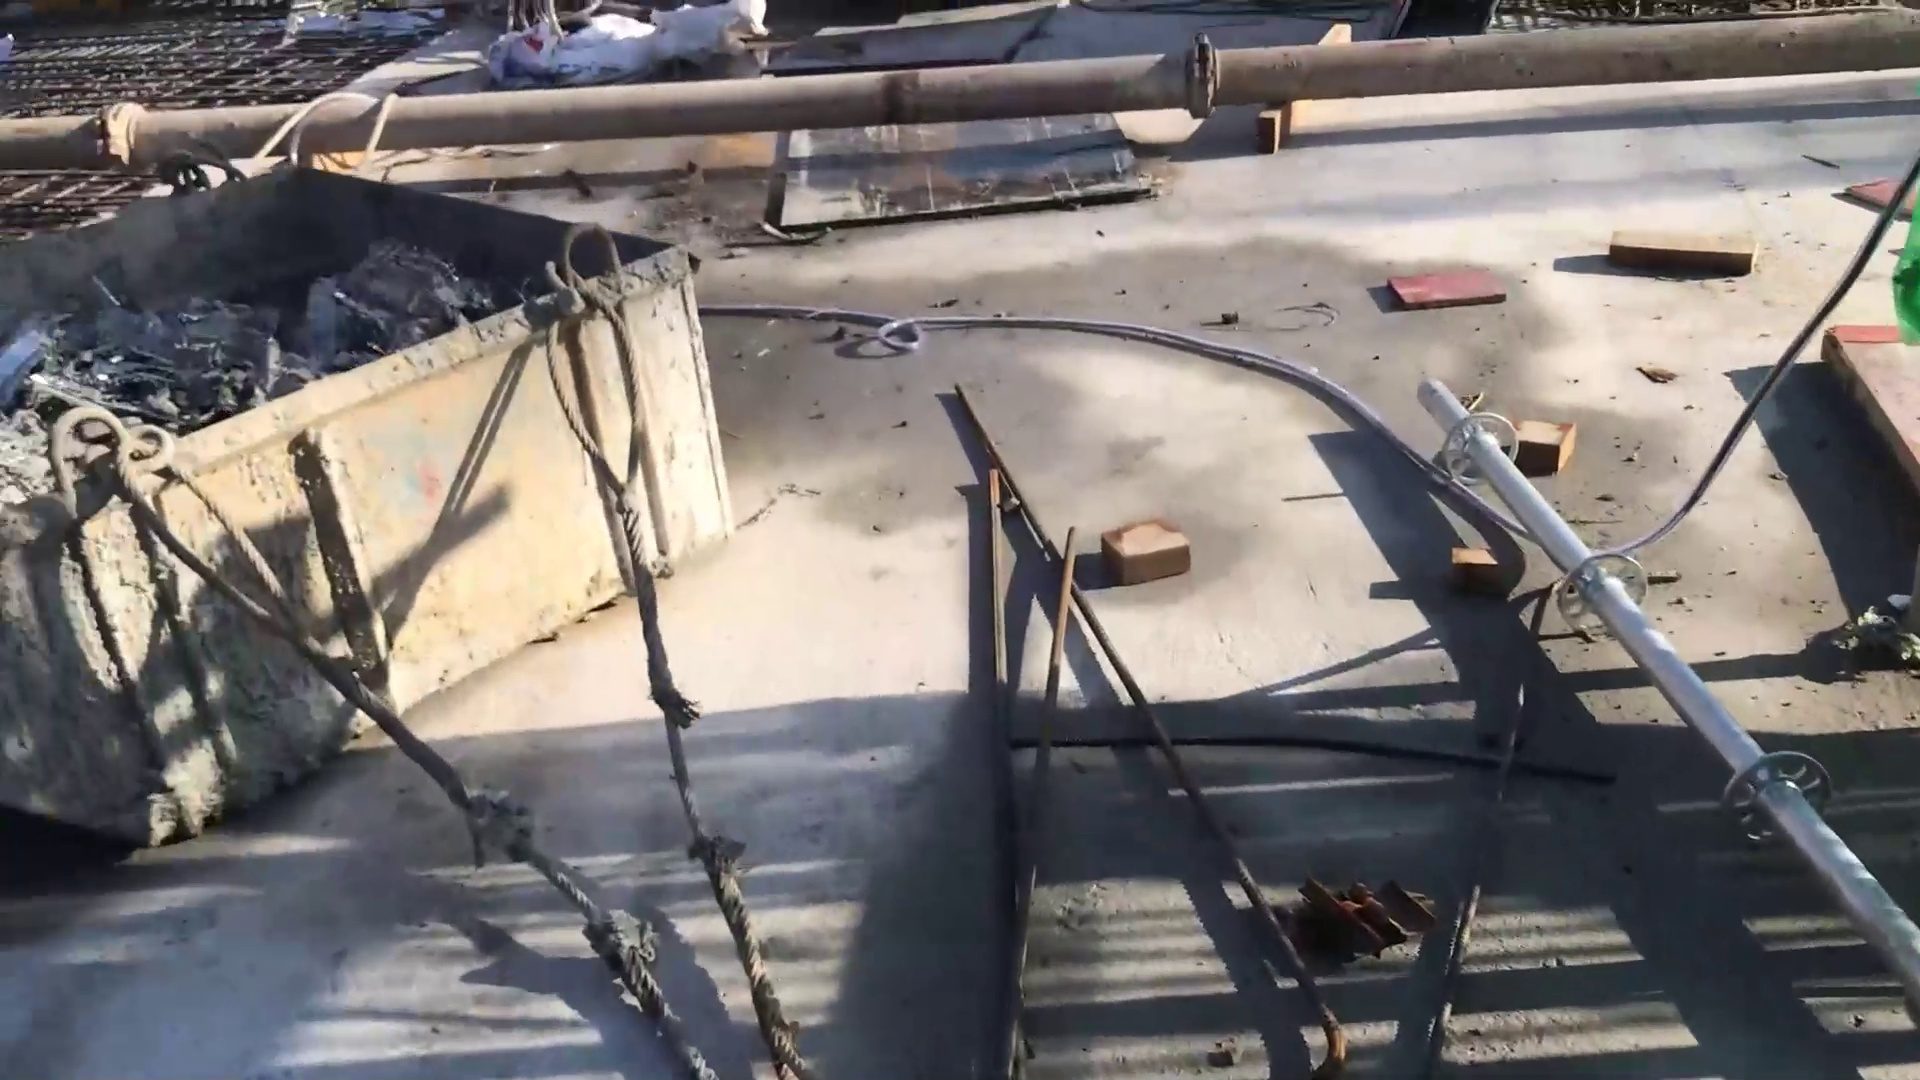hopper: (4, 148, 725, 856)
